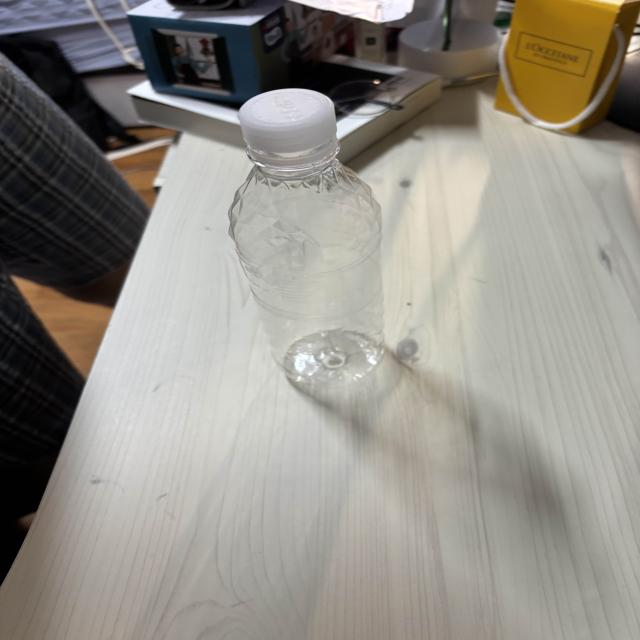Plastic: (194, 85, 421, 404)
